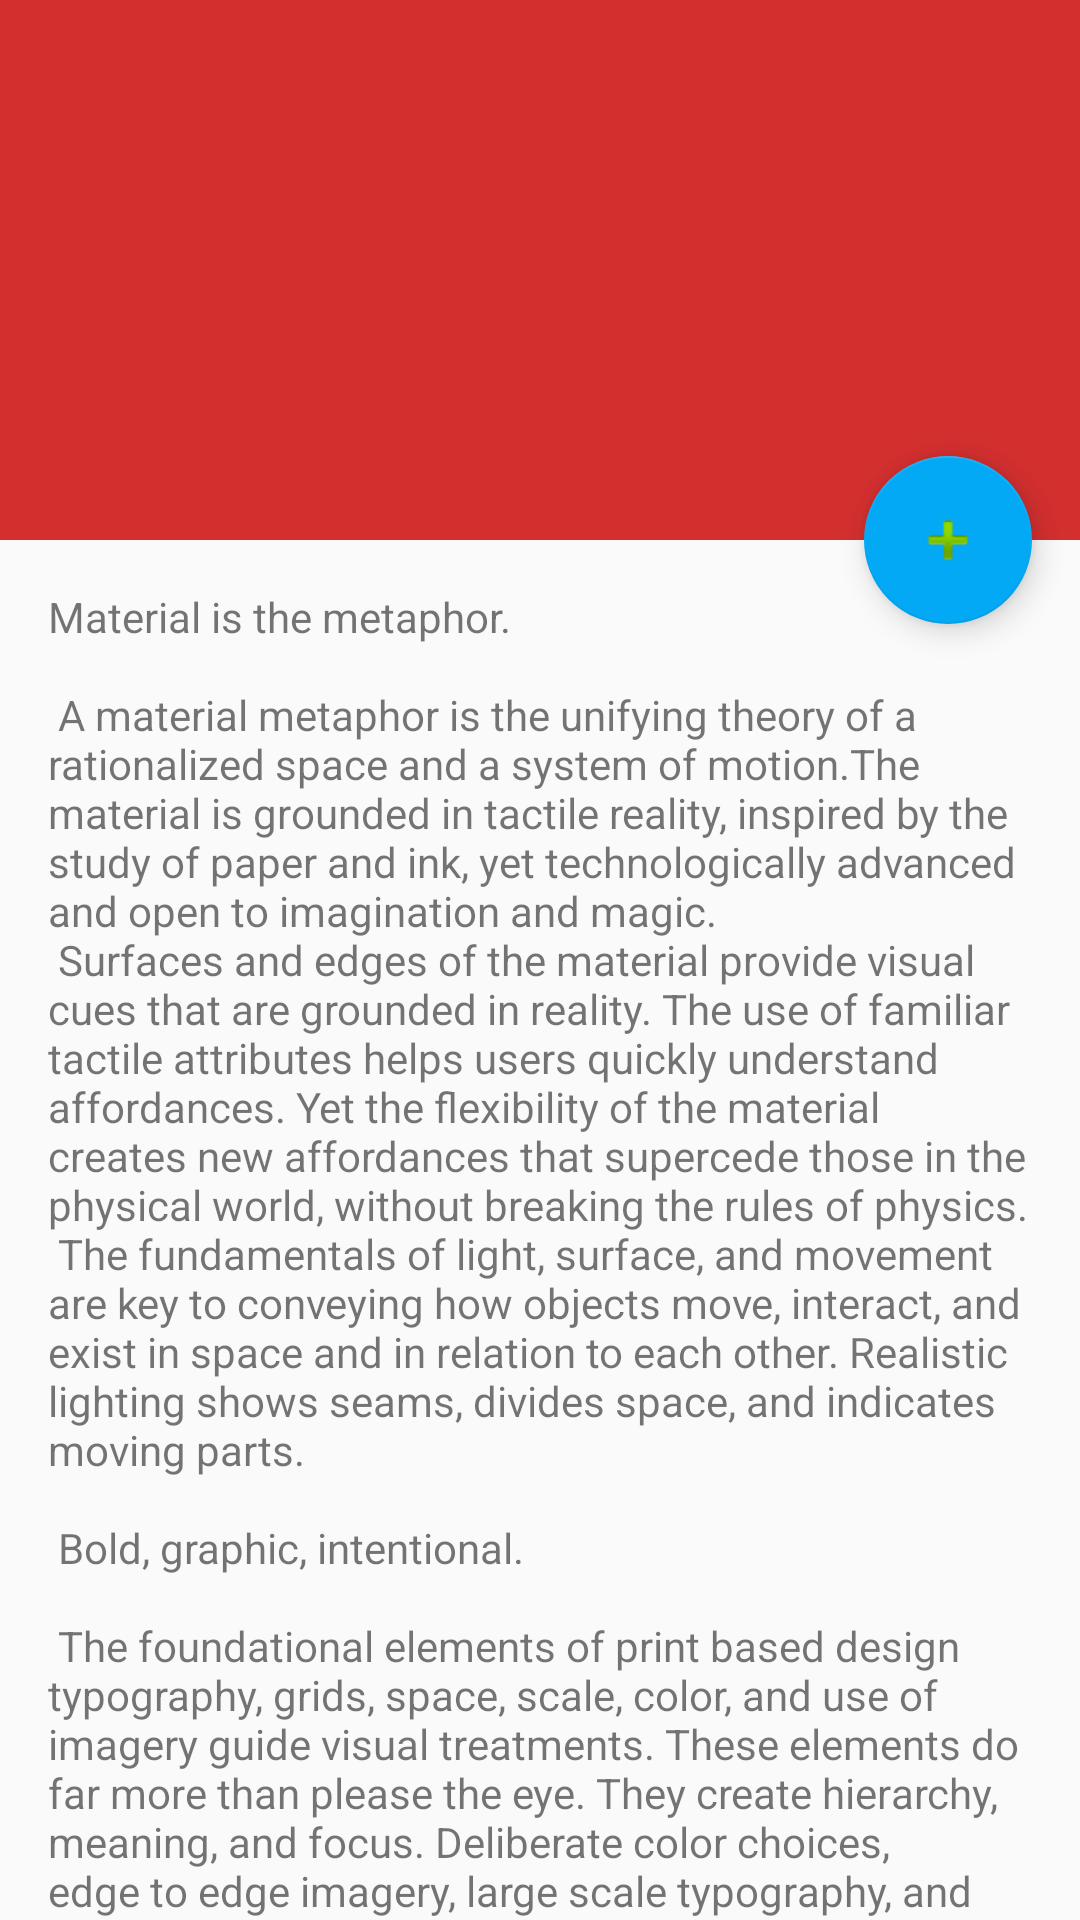

Where to tap for icons on this 1080x1920 app screen, as [x,y]:
add: [948,540]
